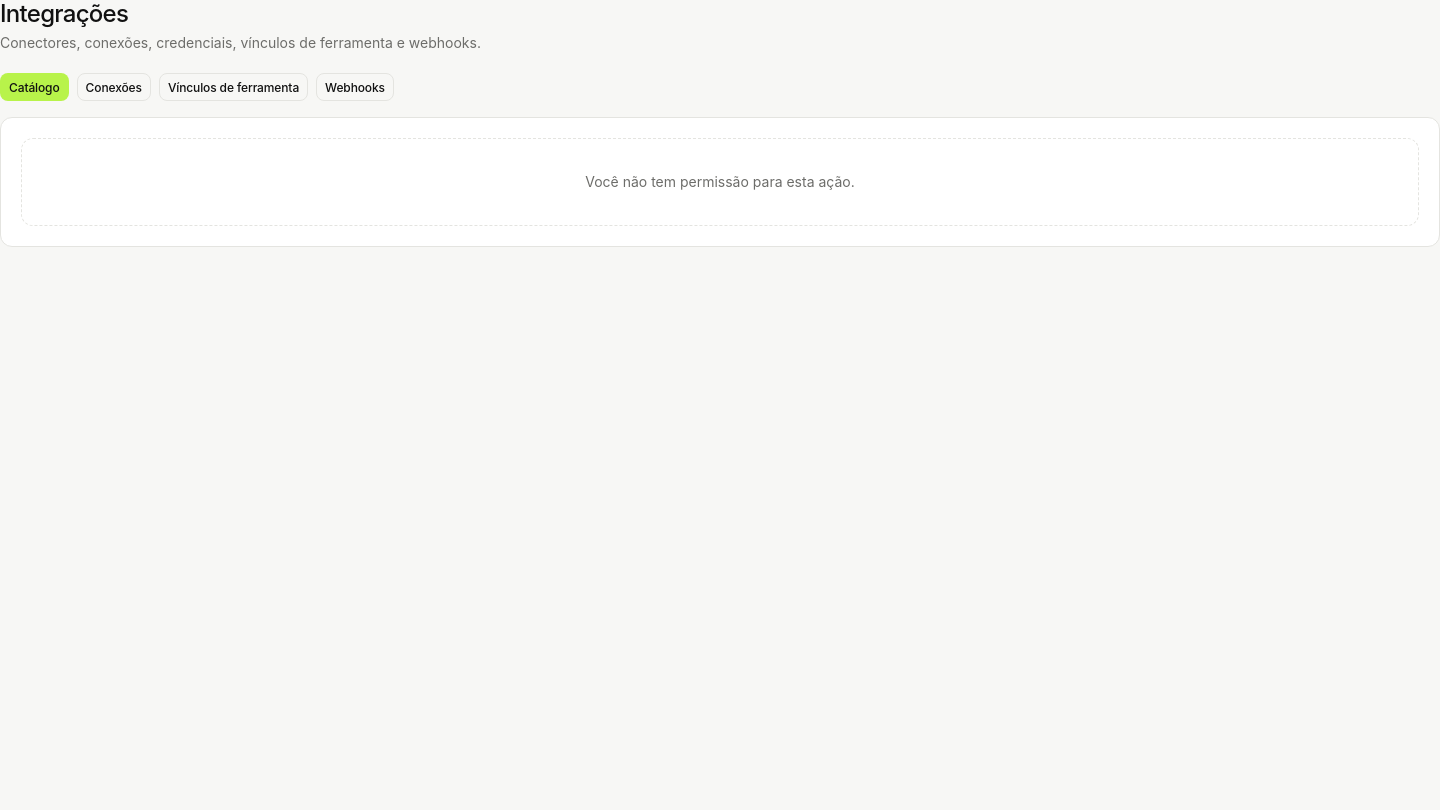
Test: IntegrationsPage — webhooks › exibe o token/segredo UMA vez e limpa ao fechar (nunca persiste)
Click the tab "Webhooks" at (355, 87), box [316,73,394,101]
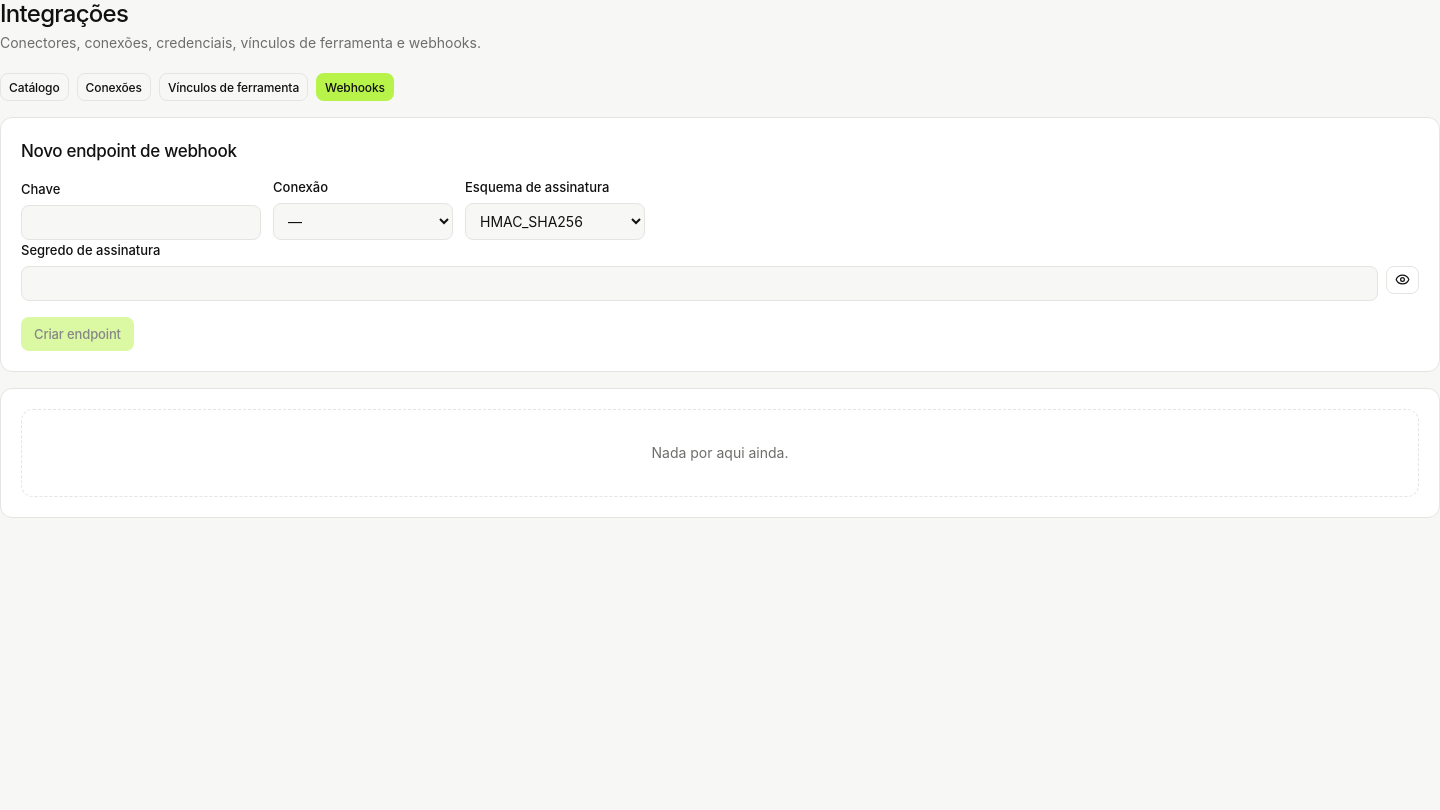
Now the field labelled "Chave" is shown
Type "orders" into the field labelled "Chave" at (141, 222), box [21,205,261,240]
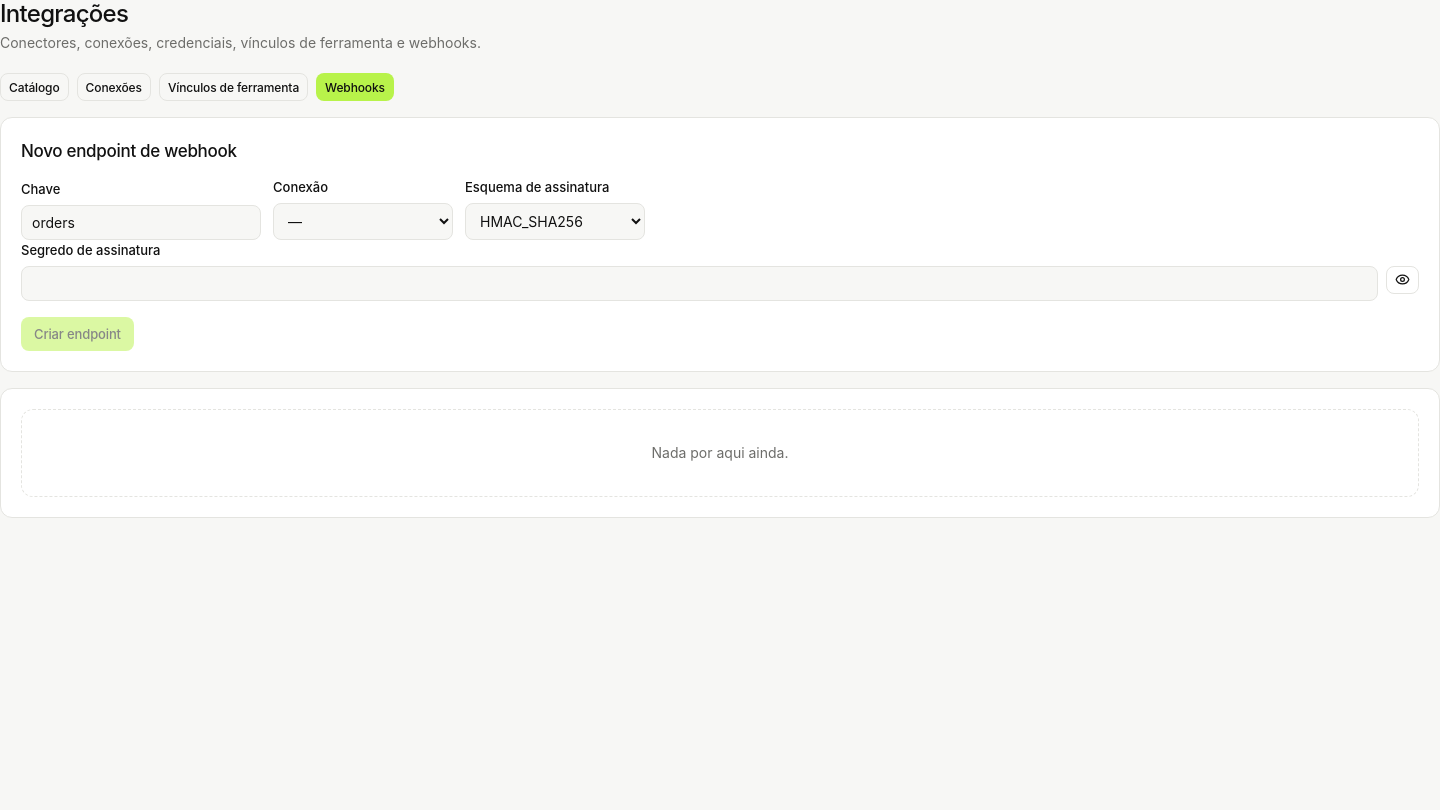
Select "Webhook source" in the dropdown labelled "Conexão" at (363, 221), box [273,203,453,240]
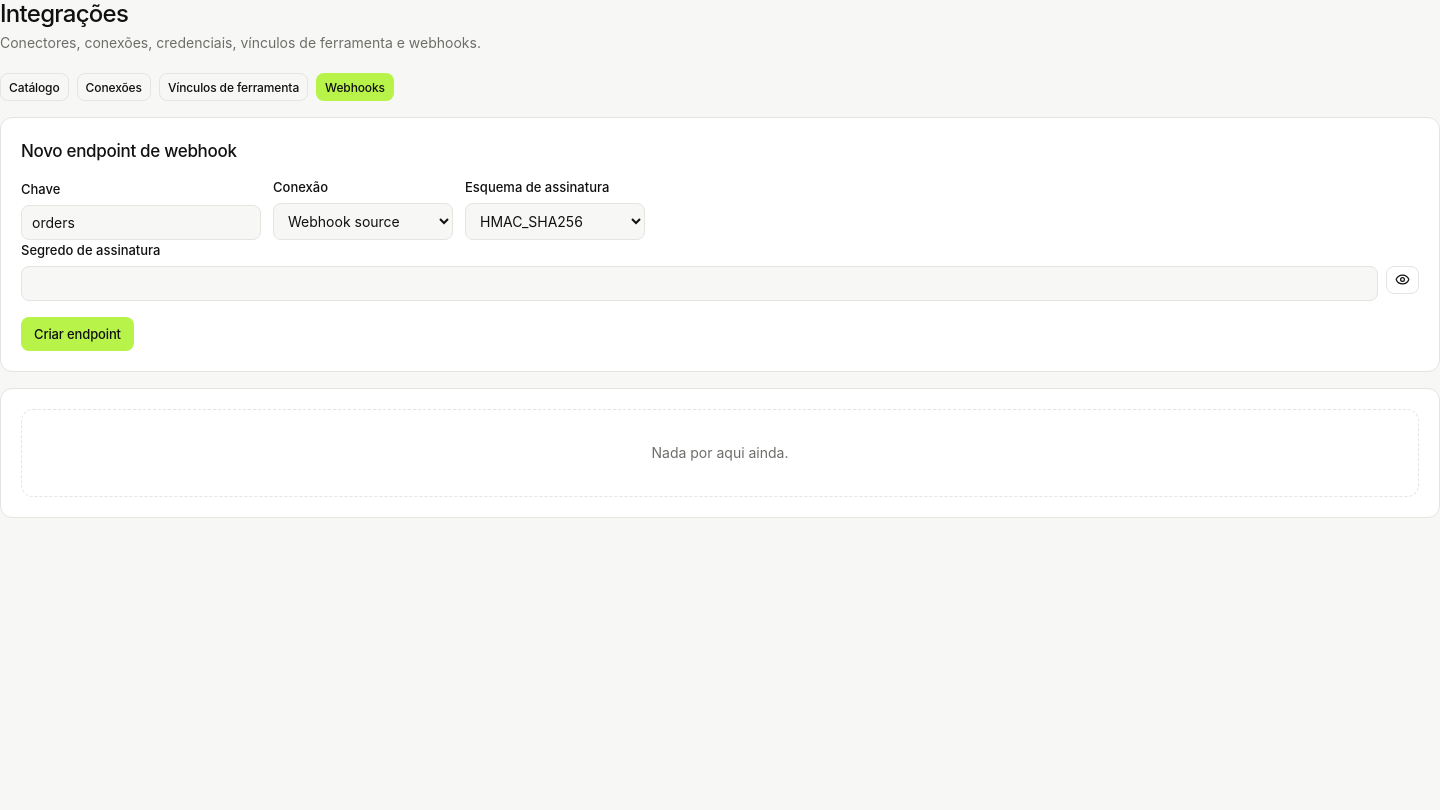
Type "provider-signing-secret" into the password field labelled "Segredo de assinatura" at (700, 283), box [21,266,1378,301]
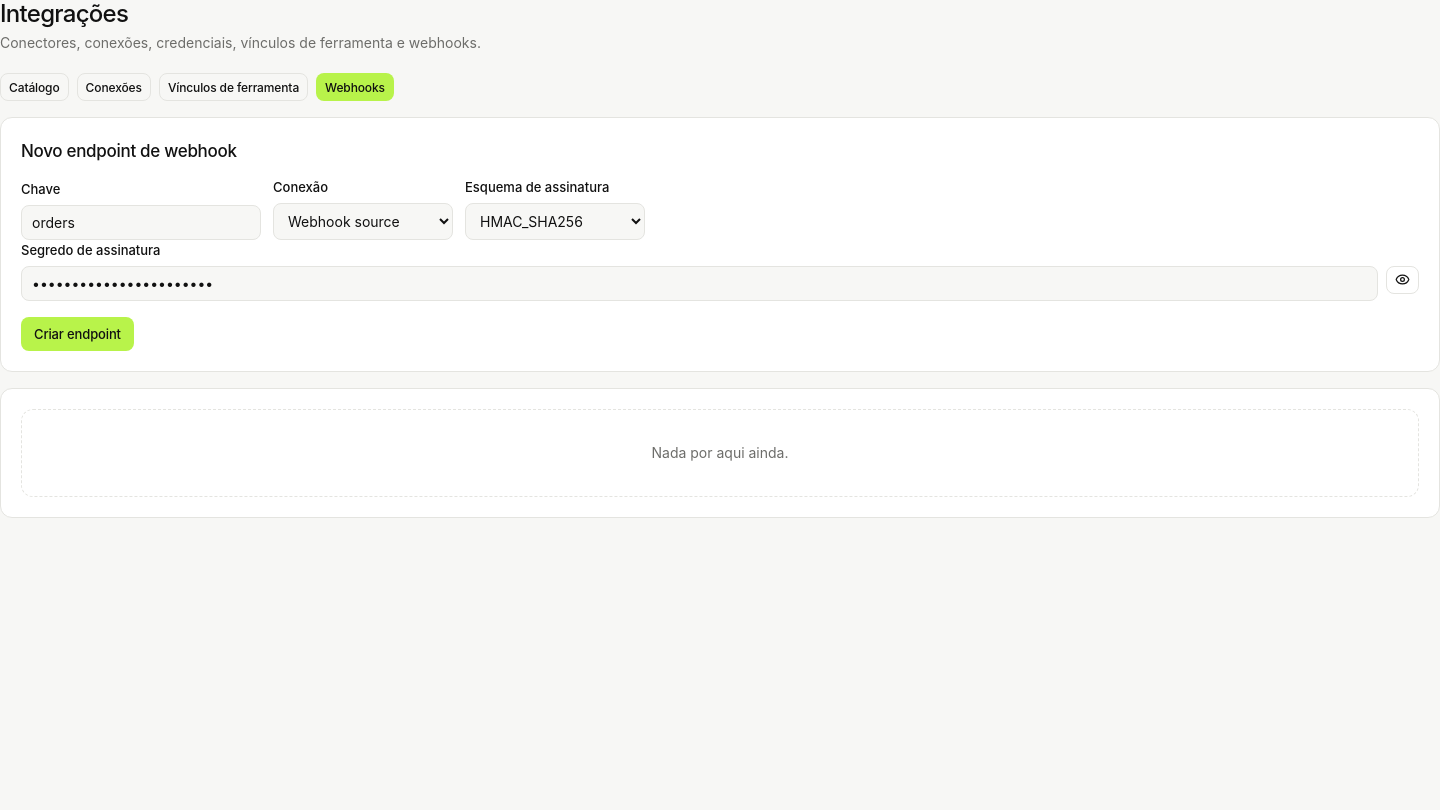
Click the button "Criar endpoint" at (77, 334), box [21,317,134,351]
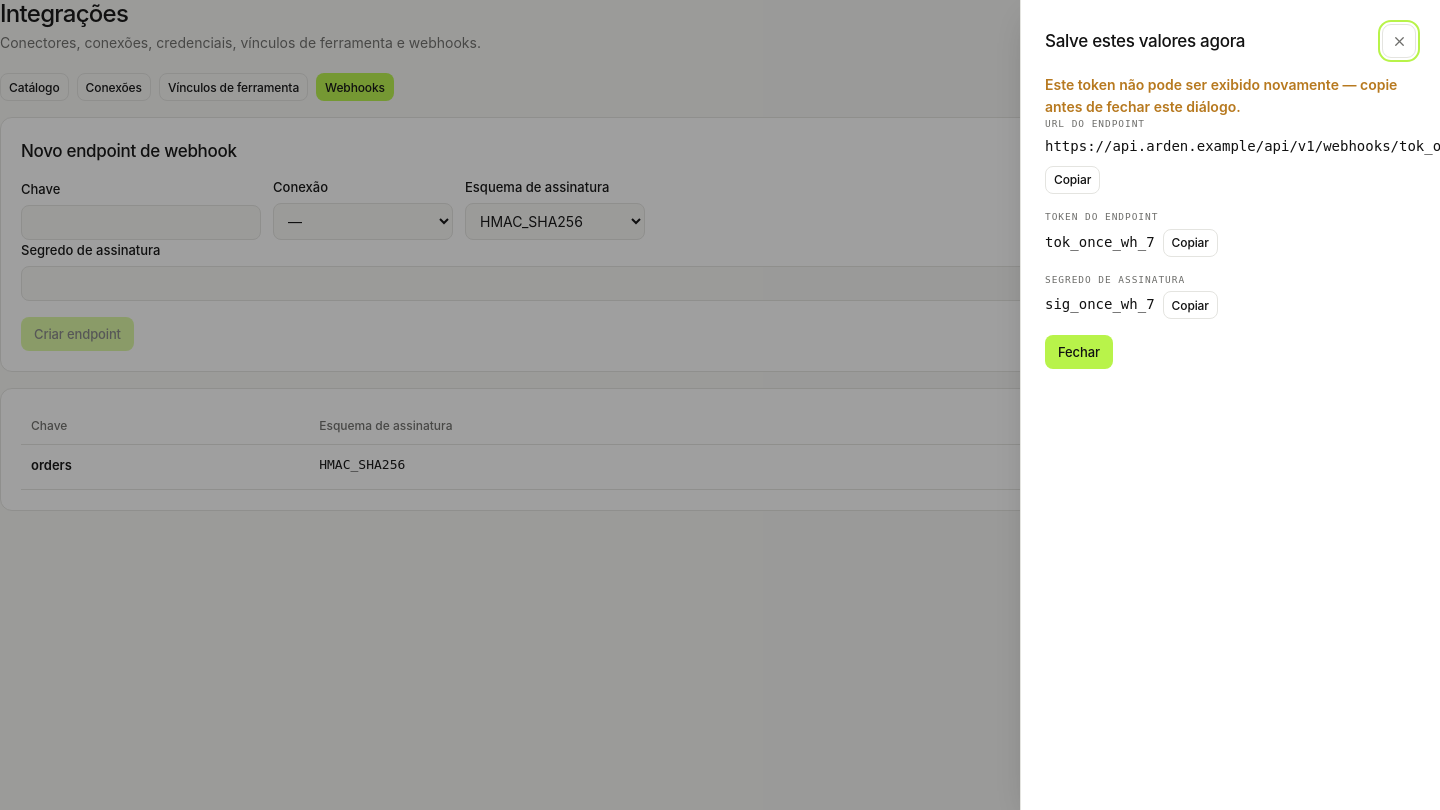
Now the text "tok_once_wh_7" is shown, box [1045,232,1155,253]
Now the text "sig_once_wh_7" is shown, box [1045,294,1155,316]
Click the button "Fechar" at (1079, 352), box [1045,335,1113,369]
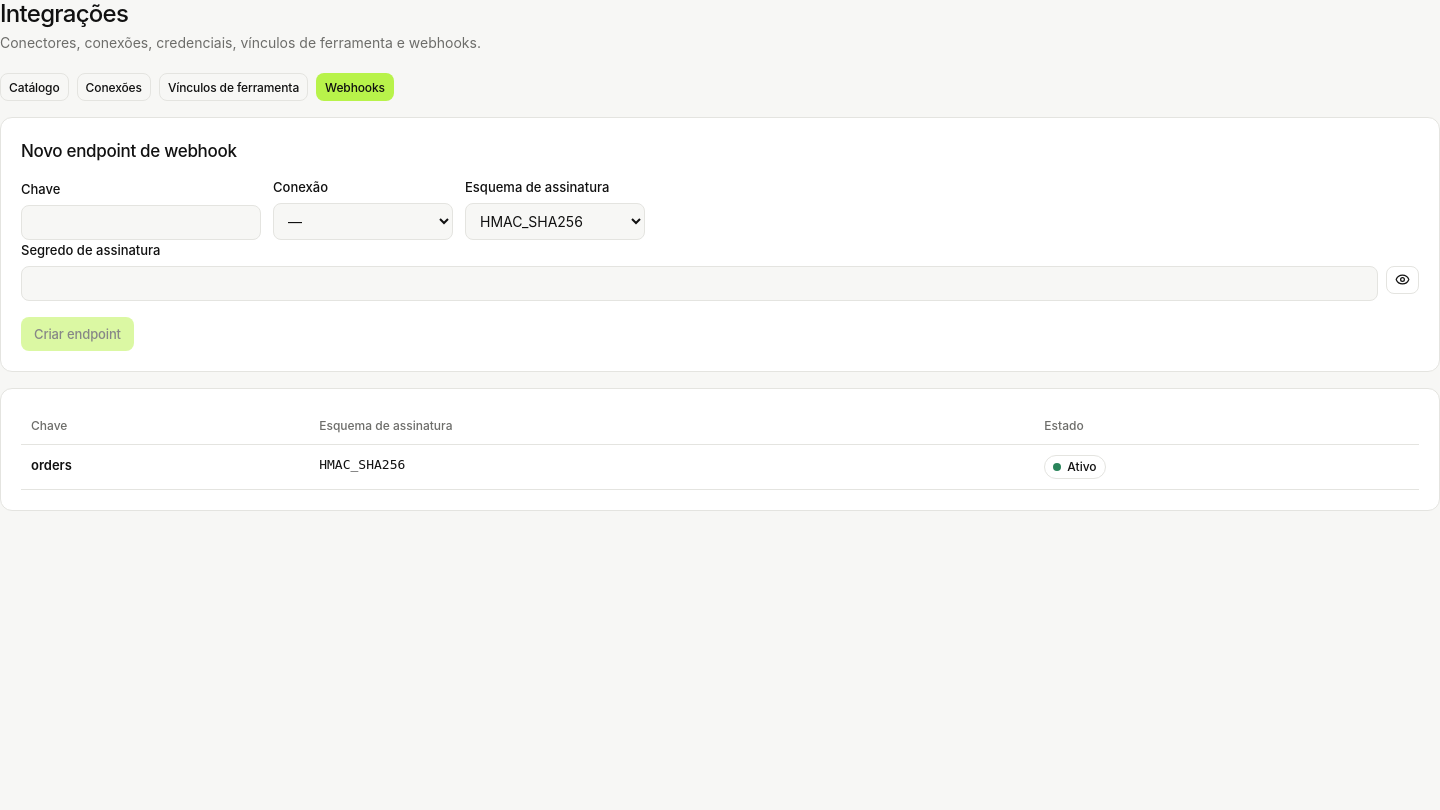
Now the text "tok_once_" is gone
